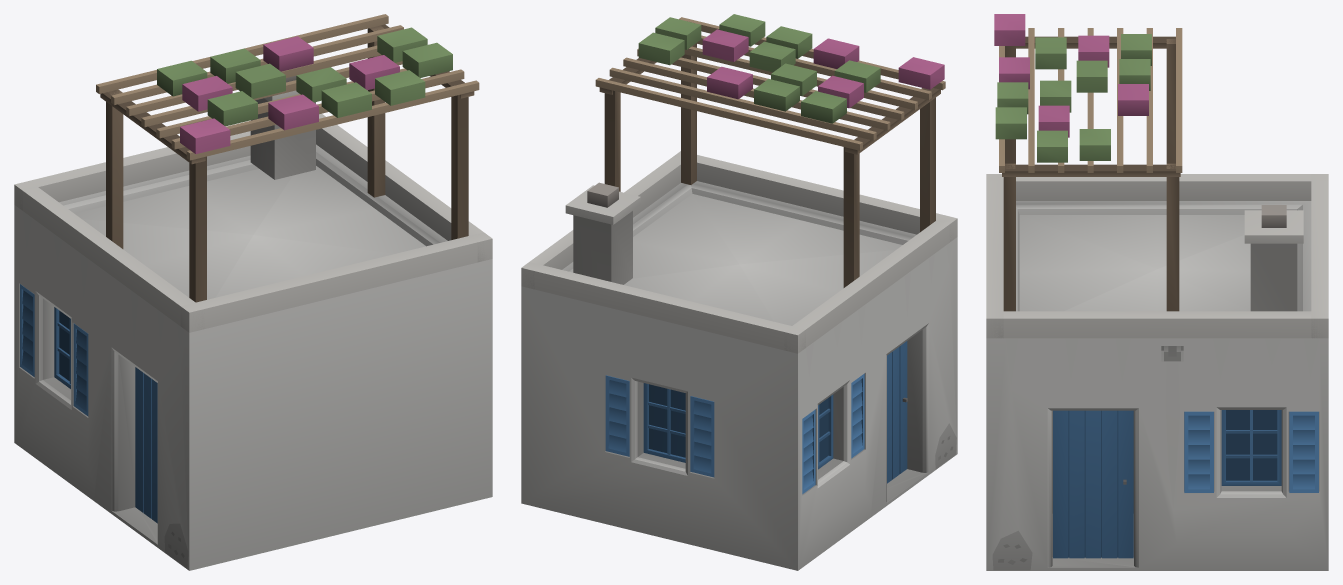
3 renders of one model, left to right at view 1: azimuth 30°, elevation 25°; view 2: azimuth 150°, elevation 25°; view 3: azimuth 270°, elevation 25°, orthographic. The views are drawn at different scales.
Visible parts, largest first — view 1: cube1p; view 2: cube1p; view 3: cube1p.
Boxes of the visible parts, left/top/right/bottom form: cube1p: left=14, top=14, right=492, bottom=570; cube1p: left=521, top=14, right=957, bottom=570; cube1p: left=986, top=14, right=1328, bottom=570.
Bounding box in the file's own units: 4.4 × 5.92 × 4.4.
